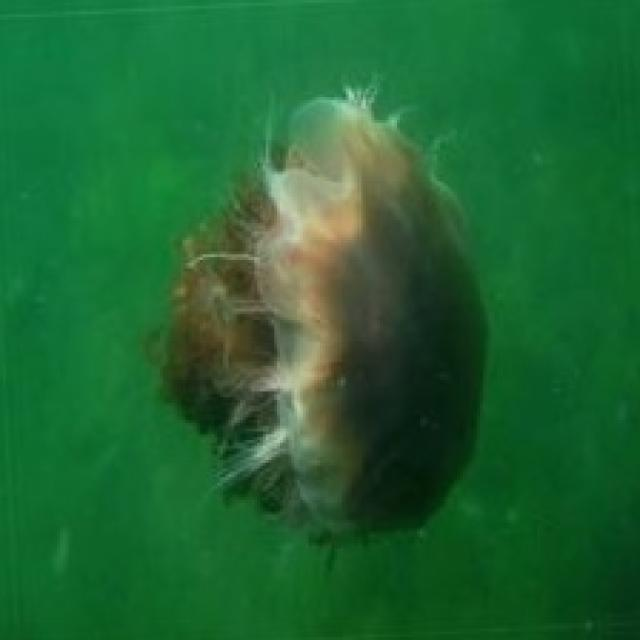Jellyfish: (148, 77, 492, 552)
